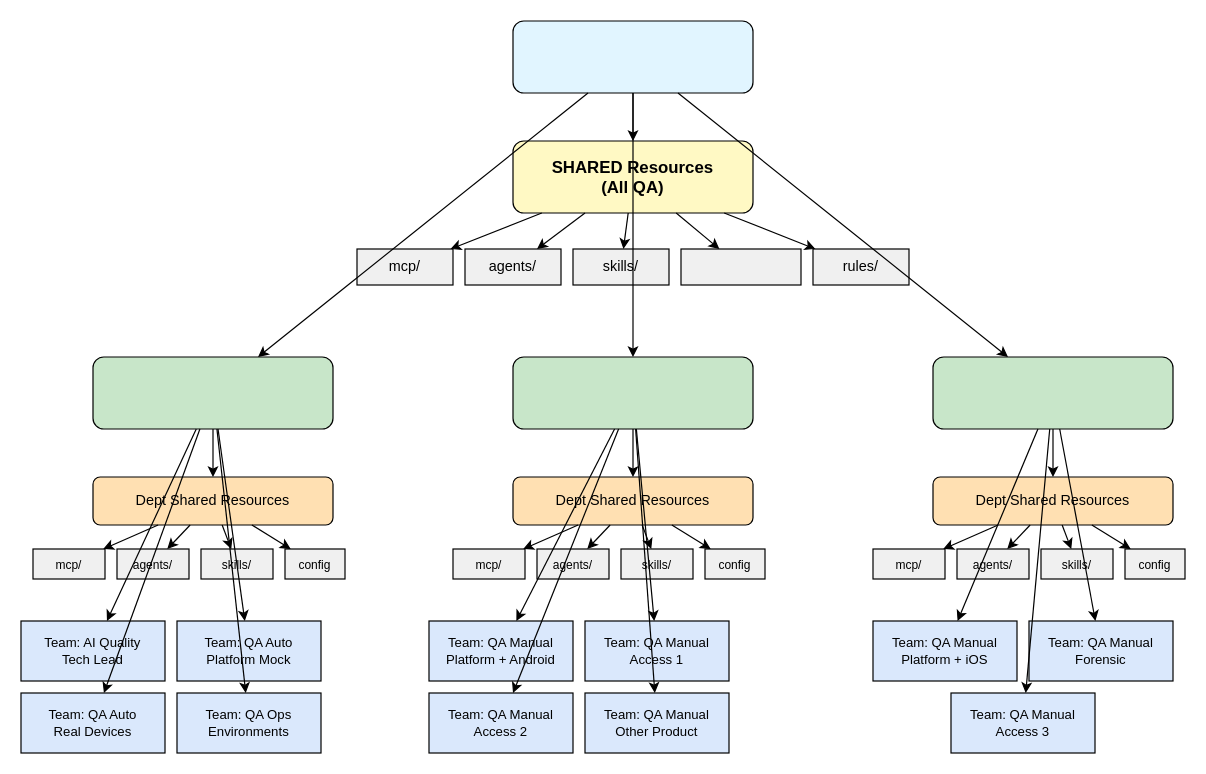
Some shapes in this 1206 by 774 pixel diagram are drawn without their labels. Here are the shapes that lost their labels. From the top down, the centre of each, then its label:
point (632, 56): QA Department
point (740, 266): opencode.json
point (212, 392): Department 1 QA Automation
point (632, 392): Department 2 QA Manual
point (1052, 392): Department 3 QA Manual
